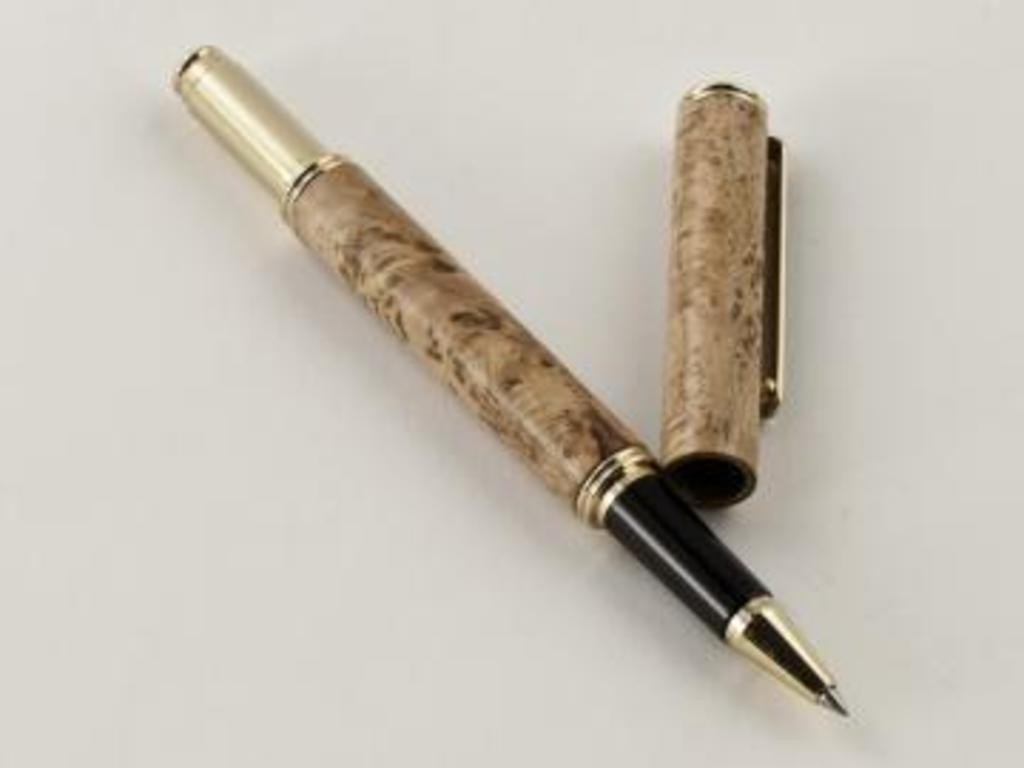Pen: (153, 28, 867, 722)
